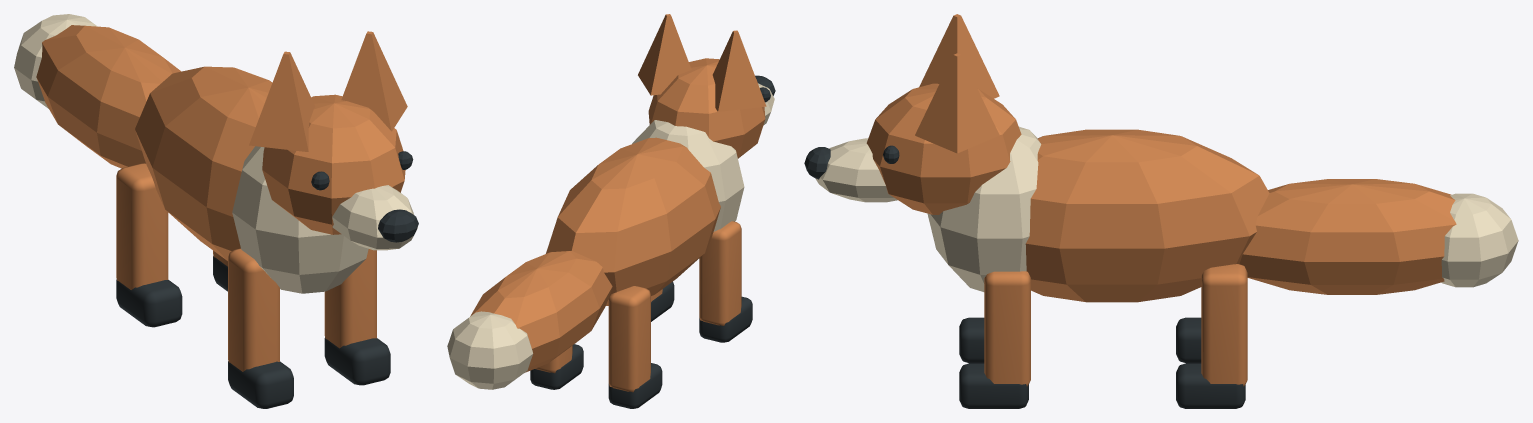
File: Fox.glb
3 renders of one model, left to right at view 1: azimuth 30°, elevation 25°; view 2: azimuth 150°, elevation 25°; view 3: azimuth 270°, elevation 25°, orthographic. The views are drawn at different scales.
Visible parts, largest first — view 1: Body, Brush, Head.001, Chest, Leg fur.001, Leg fur, Ear, Leg fur.002, Ear.001, Muzzle, Paw.002, Paw.001 (+4 smaller); view 2: Body, Brush, Head.001, White tail tip, Leg fur.001, Leg fur, Chest, Ear, Ear.001, Paw.001, Paw, Paw.003 (+2 smaller); view 3: Body, Brush, Head.001, Chest, White tail tip, Leg fur.003, Leg fur.002, Ear.001, Muzzle, Ear, Paw.003, Paw.002 (+2 smaller).
Boxes of the visible parts, x1,y1,x2,y2 form: Body: (135,66,272,260); Brush: (36,25,181,168); Head.001: (262,94,405,234); Chest: (232,146,368,293); Leg fur.001: (116,163,168,289); Leg fur: (228,248,279,371); Ear: (249,51,315,151); Leg fur.002: (324,249,376,348); Ear.001: (341,31,407,131); Muzzle: (332,185,417,250); Paw.002: (324,337,390,385); Paw.001: (116,279,182,327); Body: (546,137,720,305); Brush: (470,251,612,372); Head.001: (648,58,765,158); White tail tip: (447,311,533,389); Leg fur.001: (608,286,650,392); Leg fur: (699,221,741,325); Chest: (632,120,744,231); Ear: (712,30,766,111); Ear.001: (638,14,691,95); Paw.001: (608,363,662,408); Paw: (699,296,752,342); Paw.003: (530,344,583,389); Body: (1025,129,1269,302); Brush: (1239,179,1456,294); Head.001: (866,83,1021,214); Chest: (927,126,1041,291); White tail tip: (1441,193,1518,287); Leg fur.003: (1201,264,1247,386); Leg fur.002: (984,271,1030,386); Ear.001: (915,53,999,153); Muzzle: (815,138,897,202); Ear: (919,14,999,98); Paw.003: (1176,363,1245,408); Paw.002: (959,363,1028,408).
Size of the model in its own units: 0.46 by 0.985 by 1.85.
